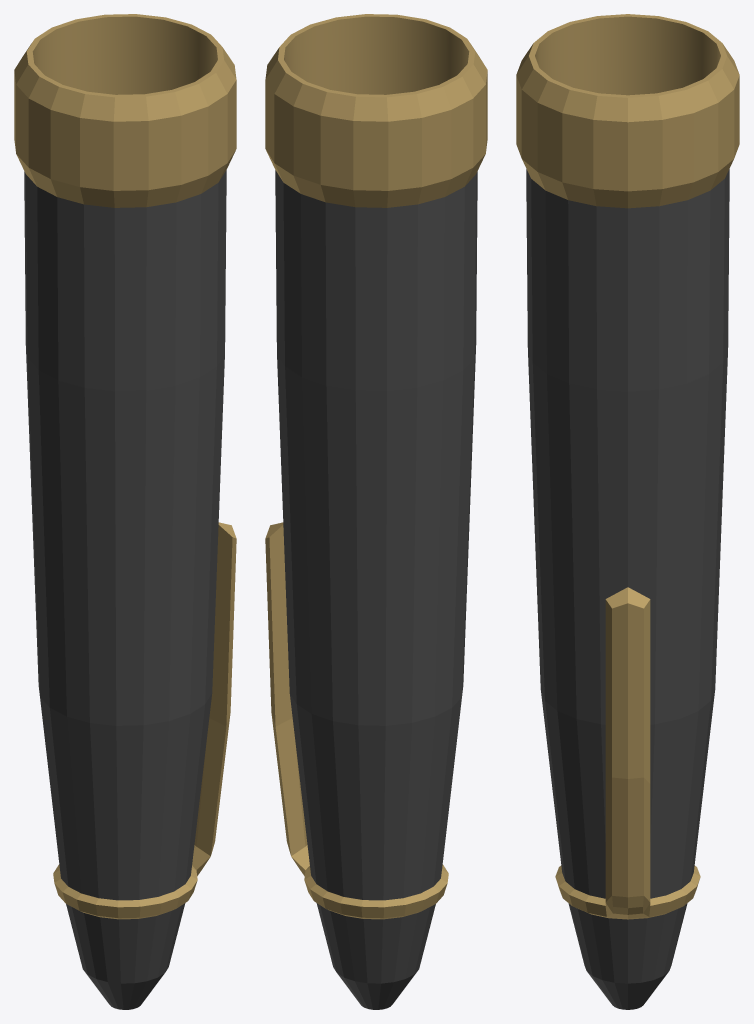
Rendered from pen2 cap.fbx.
3 renders of one model, left to right at view 1: azimuth 30°, elevation 25°; view 2: azimuth 150°, elevation 25°; view 3: azimuth 270°, elevation 25°, orthographic.
Parts seen in each view (by area): view 1: polySurface15; view 2: polySurface15; view 3: polySurface15.
Part boxes in pixels (x1,y1,x2,y2): polySurface15: (14, 14, 236, 1009); polySurface15: (265, 14, 487, 1009); polySurface15: (516, 14, 739, 1009).
Bounding box in the file's own units: 1.68 × 7.47 × 1.6.
